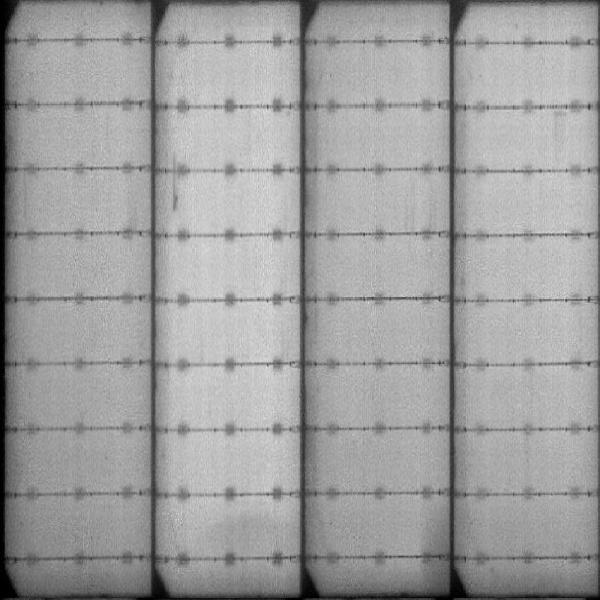scratch: (168, 151, 177, 203)
